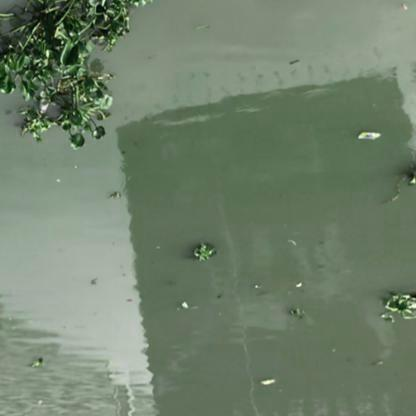Trash: (29, 94, 53, 116), (356, 127, 381, 144)
